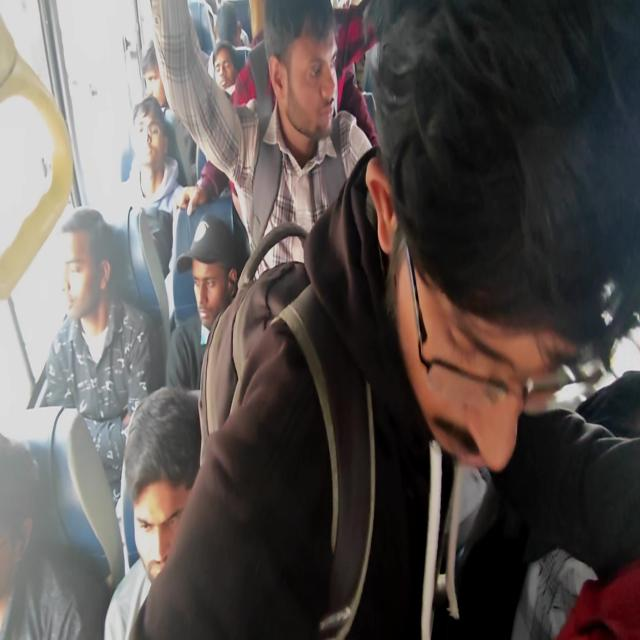person: (412, 0, 626, 470), (118, 402, 225, 564), (0, 437, 61, 590), (268, 11, 340, 140), (58, 202, 132, 309), (192, 214, 230, 310), (120, 106, 170, 169), (139, 39, 181, 100), (198, 0, 254, 44), (216, 50, 238, 104)
